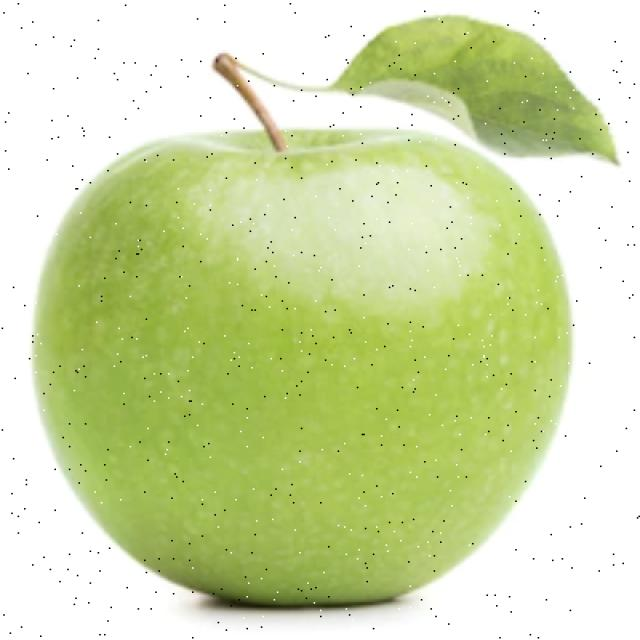Apel: (32, 117, 570, 611)
